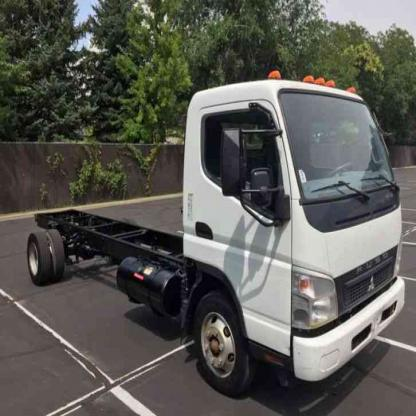truck: (28, 73, 406, 393)
